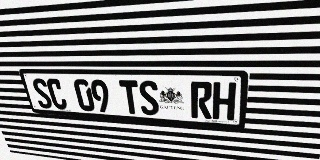0: (72, 79, 95, 112)
9: (89, 79, 112, 113)
C: (45, 78, 68, 110)
H: (212, 82, 236, 120)
R: (191, 81, 212, 119)
S: (138, 80, 160, 116), (30, 78, 54, 109)
T: (119, 80, 141, 114)
